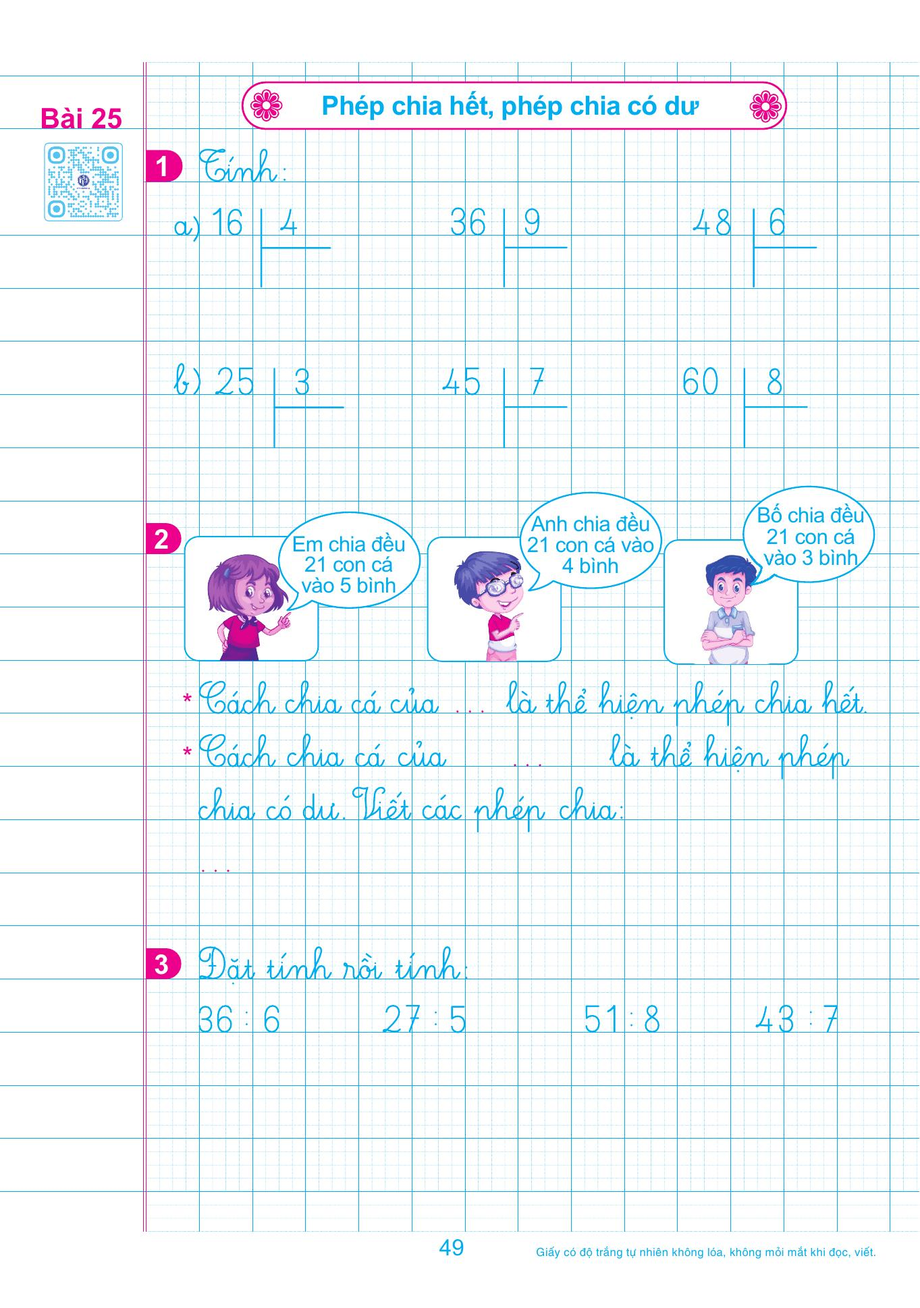Điền từ: (147, 476, 920, 917), (139, 137, 920, 458)
Đặt tính rồi tính: (145, 935, 919, 1190)
